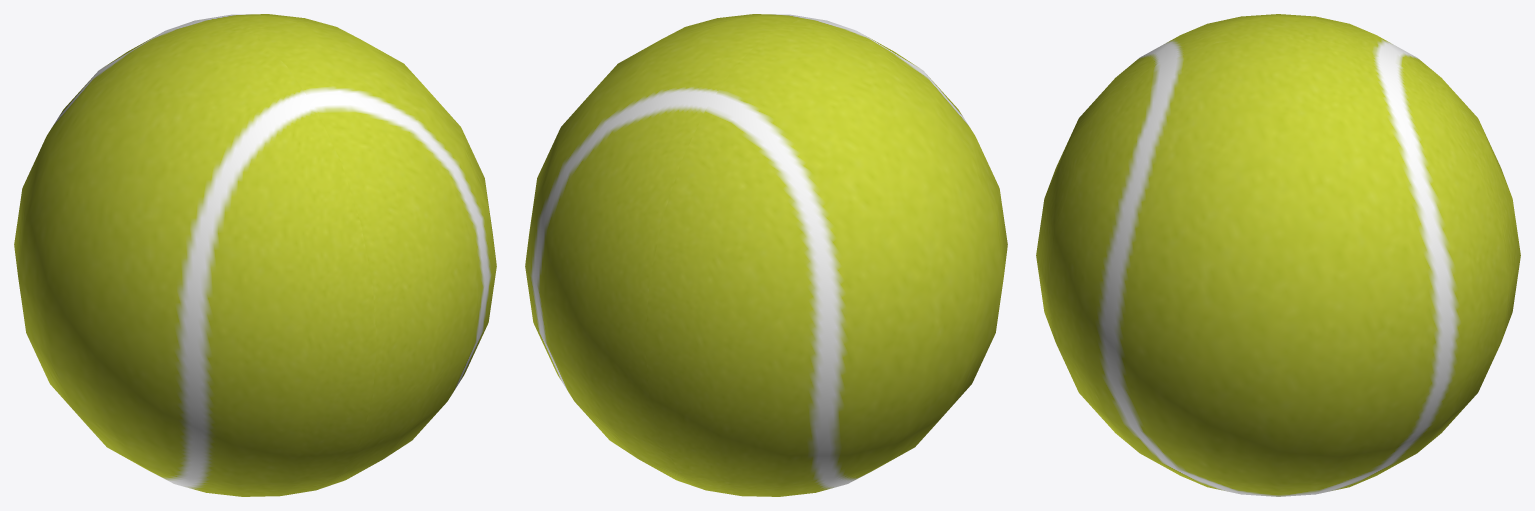
File: tennis_ball#0000.fbx
3 views of the same model, side by side, from view 1: azimuth 30°, elevation 25°; view 2: azimuth 150°, elevation 25°; view 3: azimuth 270°, elevation 25° (orthographic).
Visible parts, largest first — view 1: Sphere; view 2: Sphere; view 3: Sphere.
Boxes of the visible parts, x1,y1,x2,y2 form: Sphere: [14, 14, 496, 496]; Sphere: [525, 14, 1007, 496]; Sphere: [1036, 14, 1520, 496].
Size of the model in its own units: 11.72 by 11.72 by 11.72.
